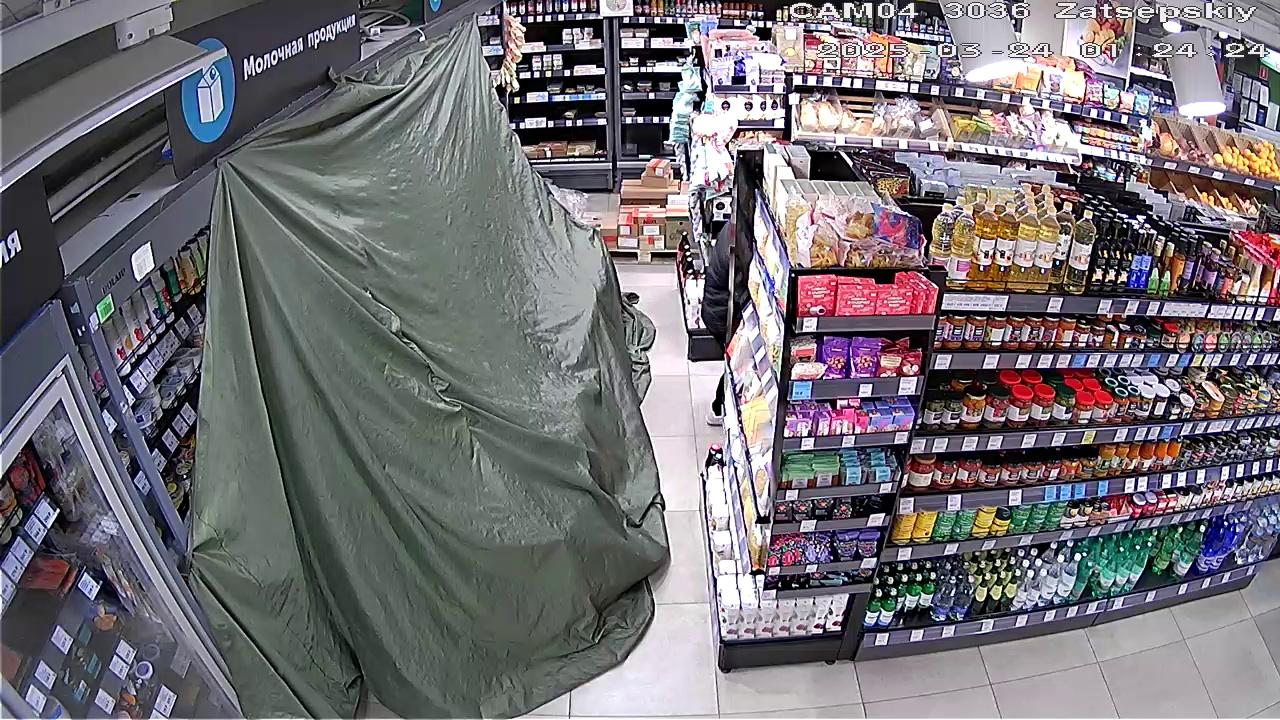dome: (210, 79, 669, 710)
